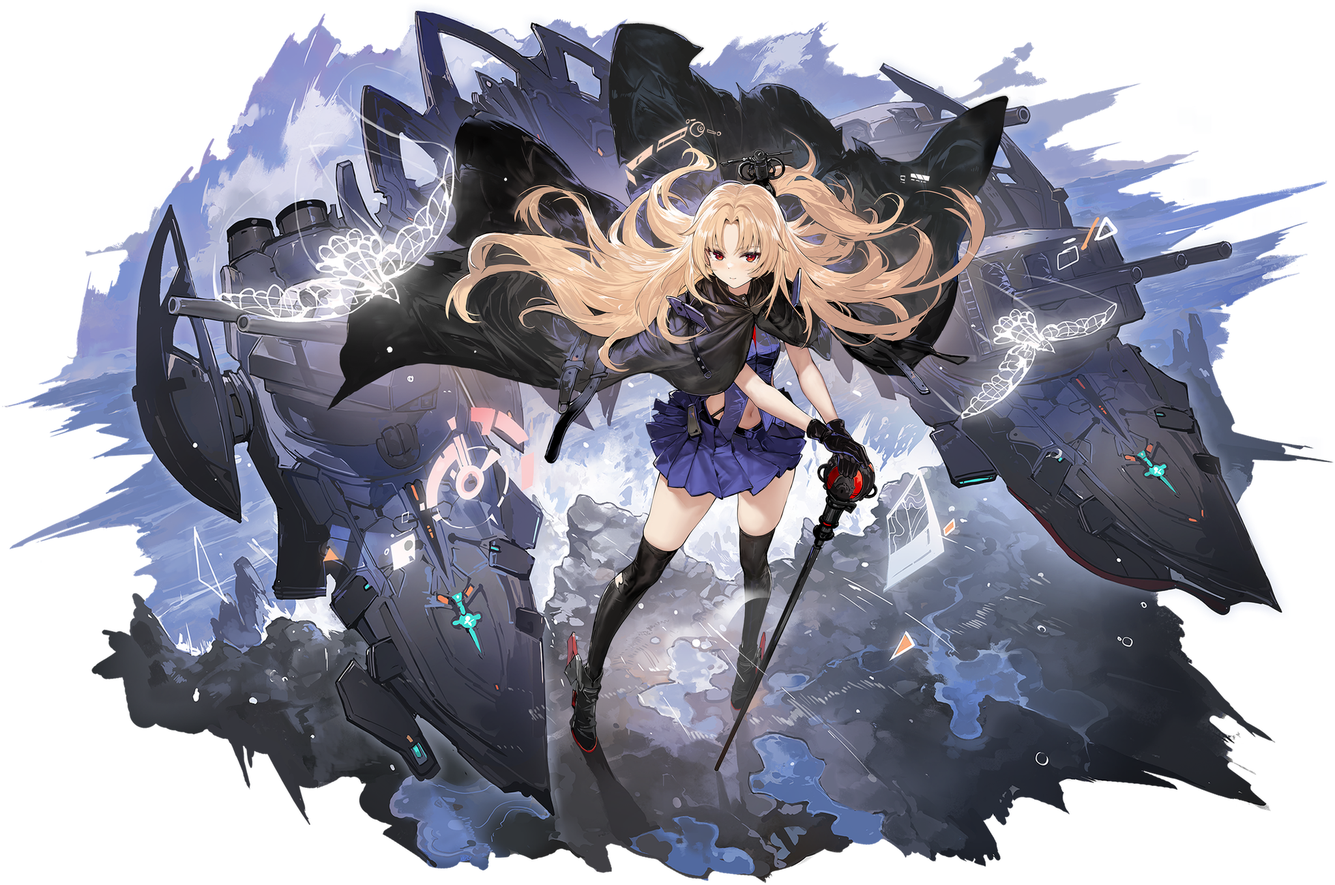person: (522, 142, 903, 830)
